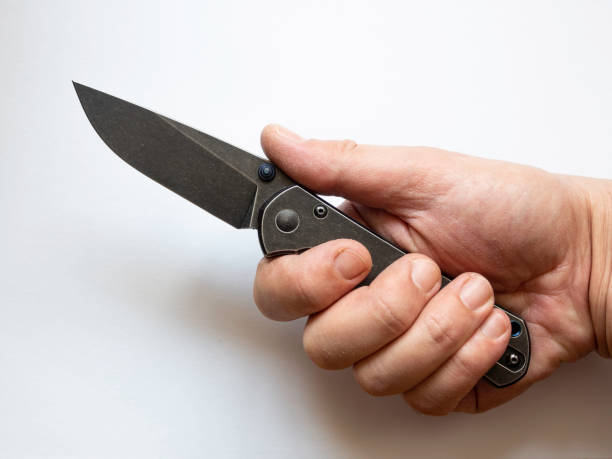knife: (68, 78, 533, 390)
